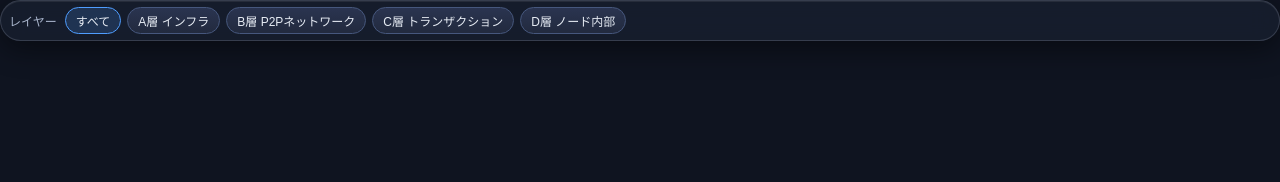
LayerFilterBar › pre-click hint tooltips (same convention as CanvasToolbar, Issue #123 §4-1) › shows the layer-specific hint on hover
Hover over the element showing "B層 P2Pネットワーク": (296, 20) [226, 7, 366, 34]
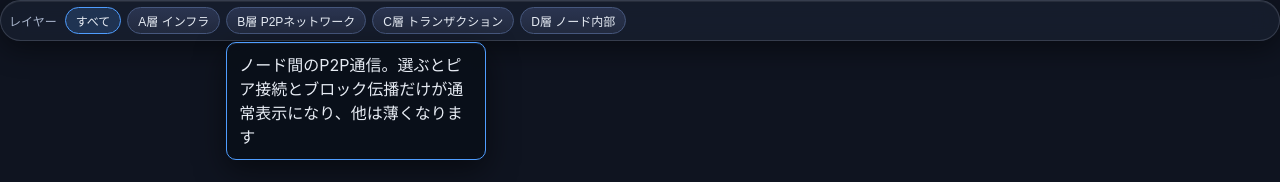
Now the tooltip shows "ピア接続とブロック伝播だけが通常表示になり", box [239, 55, 463, 147]
